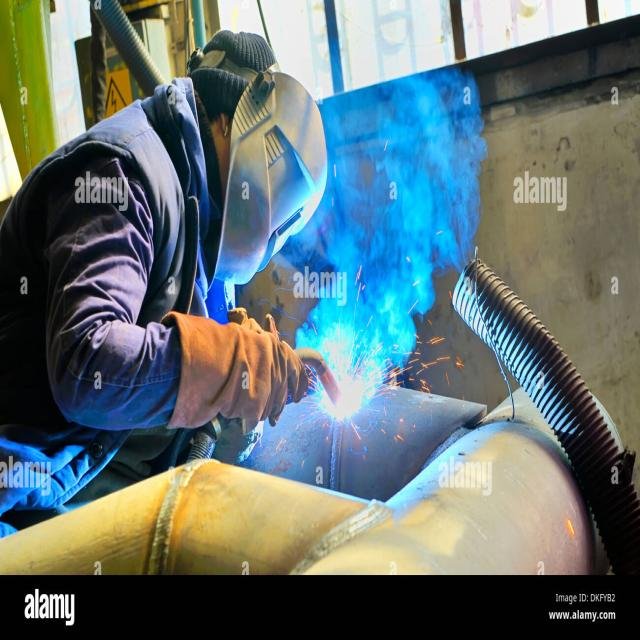welding: (336, 378, 358, 424)
